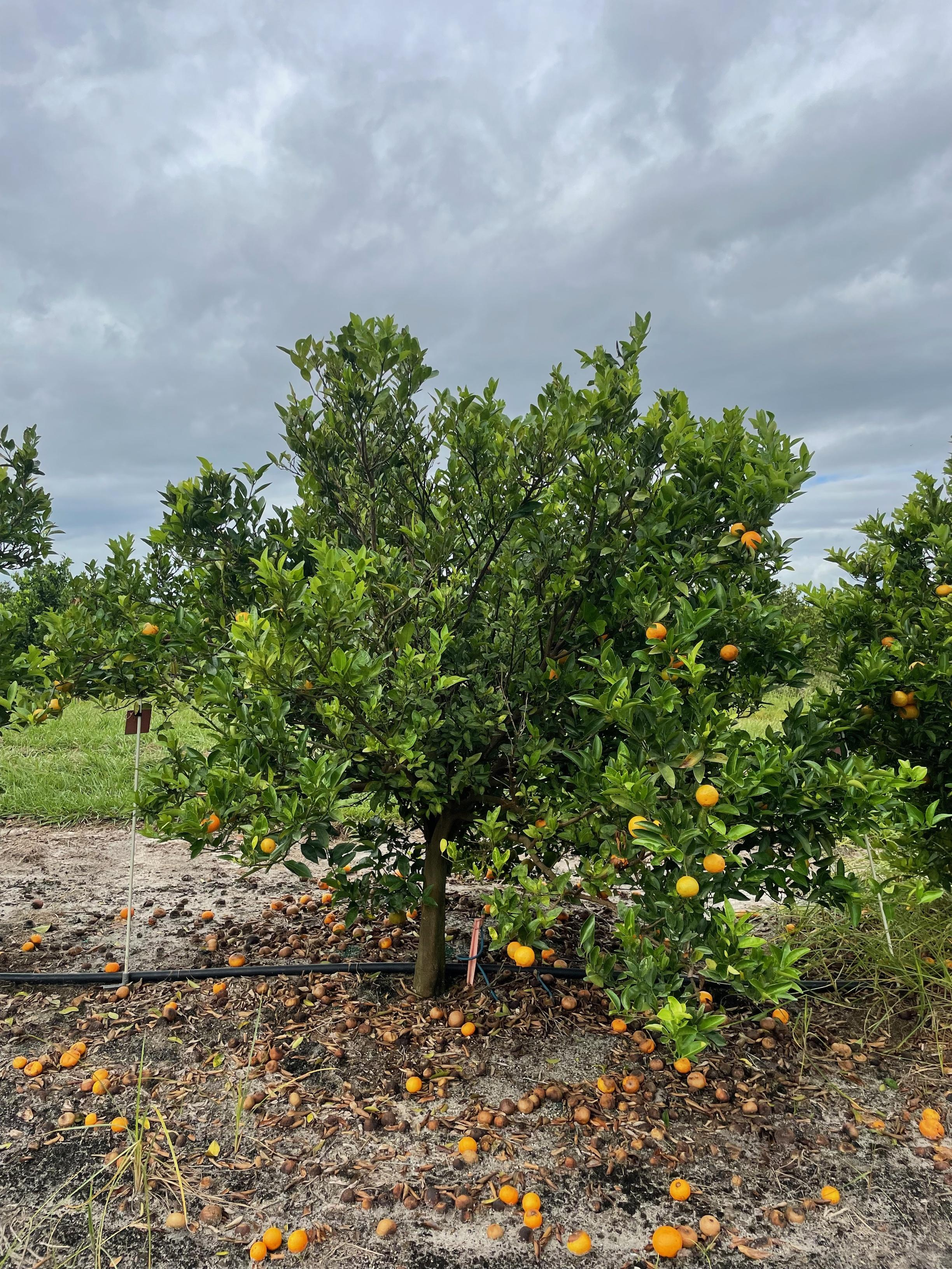fruit_on_ground: (737, 528, 766, 554), (693, 782, 720, 809), (627, 813, 656, 838), (701, 850, 728, 876), (642, 618, 670, 642), (675, 874, 701, 899), (198, 811, 223, 836), (649, 818, 673, 844), (551, 647, 575, 672), (663, 648, 689, 671), (716, 640, 742, 663), (544, 660, 567, 683), (513, 945, 536, 968), (52, 672, 75, 694), (658, 663, 682, 684), (727, 518, 751, 539), (387, 907, 409, 928), (138, 619, 161, 639), (898, 703, 921, 723), (857, 703, 878, 724), (607, 849, 629, 869), (297, 676, 318, 696), (505, 940, 525, 961), (888, 689, 910, 708), (45, 697, 65, 716), (933, 580, 952, 600), (258, 836, 278, 855), (902, 690, 922, 708), (878, 634, 898, 651), (31, 706, 49, 724), (234, 609, 253, 626), (518, 856, 535, 873), (596, 884, 612, 901), (483, 867, 498, 881)
fruit_on_tree: (651, 1225, 682, 1257), (566, 1228, 593, 1256), (917, 1115, 945, 1140), (667, 1177, 693, 1203), (675, 1222, 699, 1249), (286, 1228, 309, 1255), (698, 1213, 722, 1237), (261, 1226, 284, 1250), (497, 1182, 520, 1205), (765, 1205, 787, 1228), (819, 1183, 842, 1205), (595, 1072, 618, 1093), (374, 1217, 397, 1238), (522, 1209, 543, 1231), (456, 1133, 478, 1154), (521, 1190, 542, 1212), (445, 1009, 467, 1030), (248, 1240, 268, 1263), (422, 1186, 443, 1207), (686, 1072, 709, 1091), (164, 1210, 187, 1229), (784, 1204, 805, 1224), (515, 1096, 536, 1116), (770, 1006, 791, 1026), (60, 1049, 82, 1068), (620, 1074, 640, 1094), (484, 1221, 504, 1241), (544, 1083, 565, 1102), (496, 1095, 517, 1114), (571, 1106, 592, 1125), (91, 1077, 112, 1096), (921, 1105, 941, 1124), (673, 1056, 693, 1075), (403, 1075, 422, 1095), (695, 989, 714, 1008), (427, 1003, 446, 1022), (740, 1097, 760, 1115), (400, 1193, 420, 1211), (609, 1016, 629, 1034), (109, 1115, 129, 1133), (712, 1084, 731, 1102), (559, 993, 578, 1011), (378, 1110, 398, 1127), (454, 1192, 474, 1209), (56, 1111, 77, 1127), (359, 1116, 378, 1133), (476, 1109, 495, 1126), (758, 1014, 777, 1031), (841, 1121, 859, 1138), (638, 1037, 656, 1054), (24, 1060, 42, 1077), (598, 1094, 617, 1110), (282, 993, 302, 1008), (204, 936, 221, 953), (68, 1040, 87, 1055), (226, 952, 245, 967), (492, 1113, 509, 1129), (268, 1044, 284, 1061), (240, 1093, 256, 1110), (12, 1054, 29, 1070), (460, 1021, 477, 1037), (631, 1028, 647, 1045), (648, 1056, 666, 1071), (91, 1068, 109, 1083), (79, 1076, 97, 1091), (377, 934, 393, 950), (310, 983, 327, 998), (253, 1049, 270, 1064), (357, 1020, 374, 1035), (390, 925, 407, 940), (253, 980, 270, 995), (210, 980, 227, 995), (119, 905, 136, 920), (161, 1006, 178, 1021), (532, 1084, 547, 1100), (425, 1116, 441, 1131), (287, 1092, 303, 1107), (276, 944, 293, 958), (629, 1136, 644, 1151), (121, 1070, 136, 1085), (563, 1154, 578, 1169), (251, 1088, 266, 1103), (541, 945, 556, 960), (83, 1111, 98, 1126), (404, 906, 420, 920), (783, 921, 799, 935), (115, 984, 131, 998), (103, 960, 121, 972), (262, 1060, 278, 1073), (553, 956, 569, 969), (284, 904, 300, 917), (151, 906, 167, 919), (556, 909, 570, 923), (31, 896, 45, 910), (287, 932, 302, 945), (351, 925, 366, 938), (319, 891, 334, 904), (333, 921, 348, 934), (270, 898, 285, 911), (200, 907, 215, 920), (392, 868, 406, 881), (543, 925, 557, 938), (344, 1016, 358, 1029), (322, 912, 336, 925), (299, 893, 314, 905), (260, 907, 275, 919), (163, 1000, 178, 1012), (31, 931, 44, 944), (305, 900, 319, 912), (327, 933, 341, 945), (258, 944, 272, 956), (89, 1012, 103, 1024), (317, 878, 331, 890), (20, 939, 34, 951), (340, 862, 353, 874), (333, 1048, 346, 1060), (146, 915, 158, 926), (291, 938, 304, 948)
